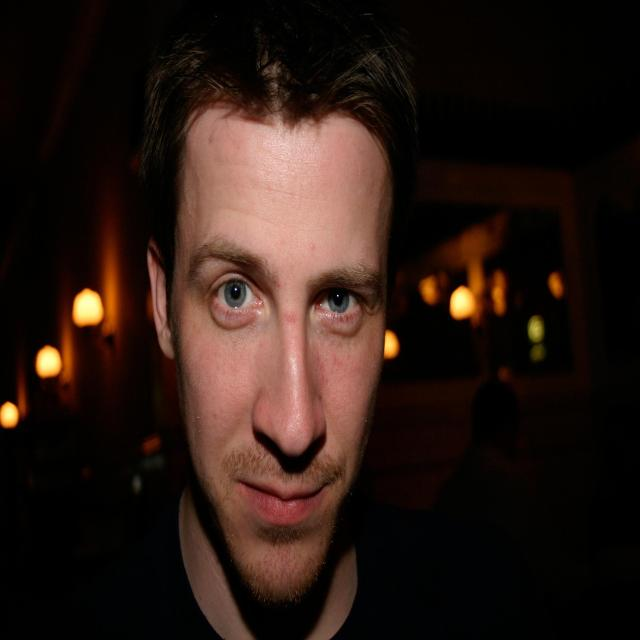no-glass: (206, 273, 364, 327)
